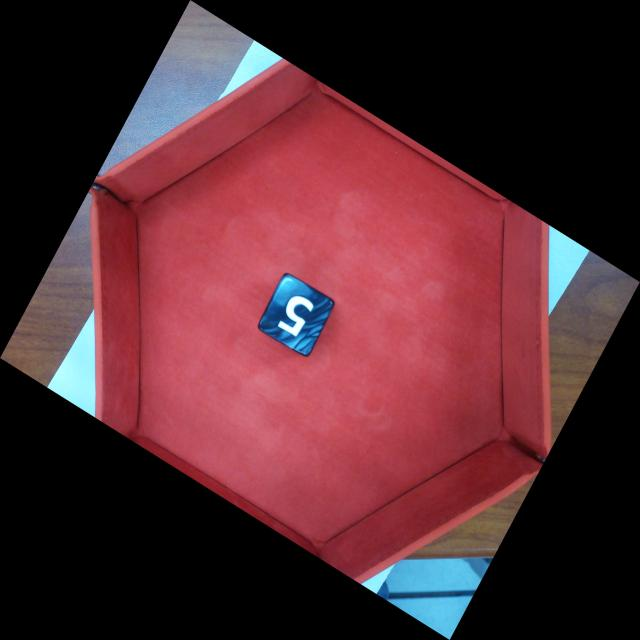dice: (262, 274, 334, 357)
